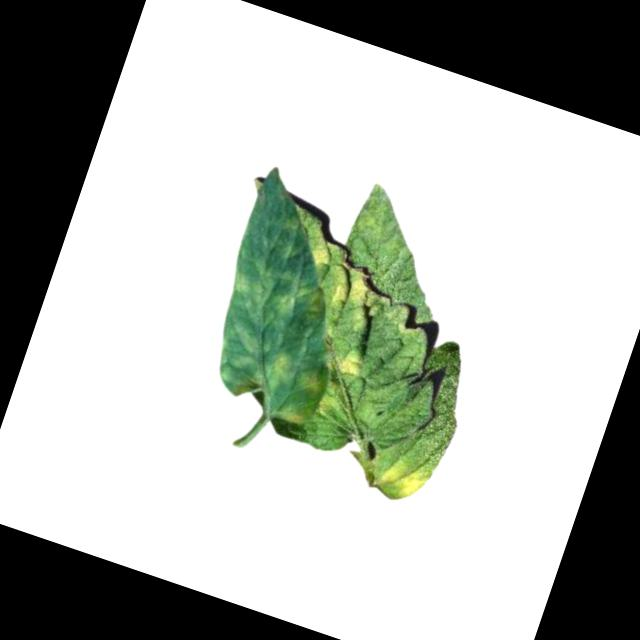Leaf_Mold: (226, 249, 333, 329), (207, 317, 268, 399), (325, 265, 385, 332), (376, 452, 433, 504), (260, 346, 302, 397), (332, 339, 377, 385), (282, 406, 315, 435), (308, 240, 337, 272), (300, 367, 329, 399)
